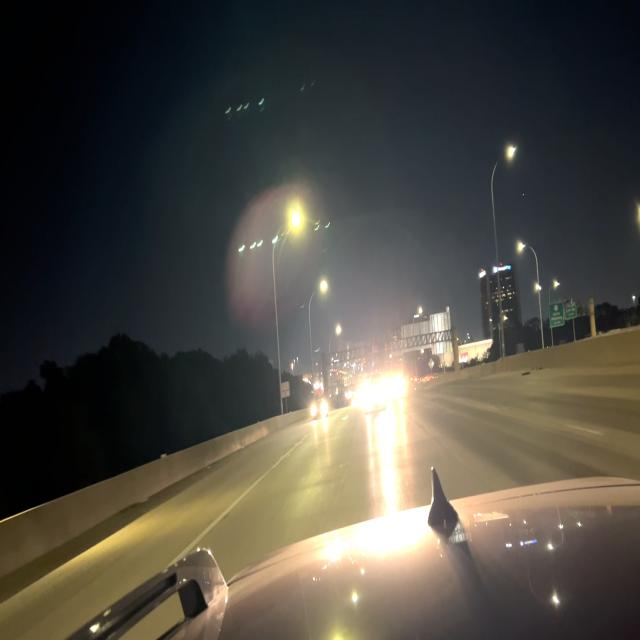back-of-sign: (386, 308, 452, 356), (279, 377, 292, 402)
